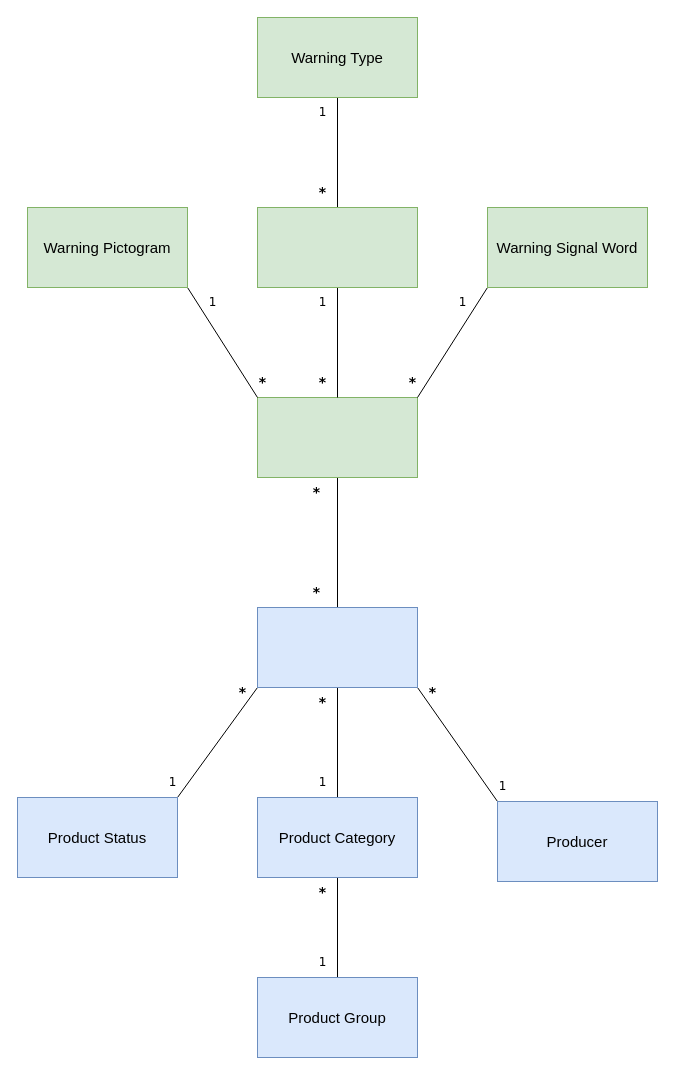
Image size: 675x1075. Some labels were removed from this diagram. The centre of each missing label's shape, as x and y in pixels:
Product: the point at 337,647
Warning Category: the point at 337,247
Warning Sentence: the point at 337,437
